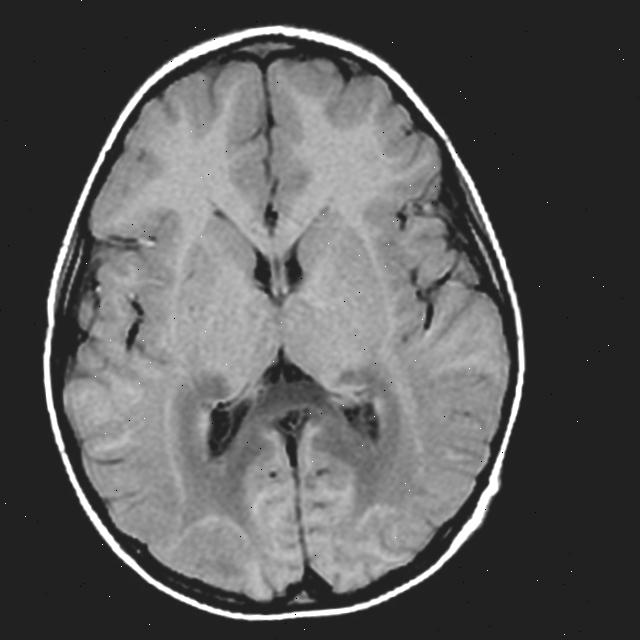NoTumor: (10, 0, 548, 640)
